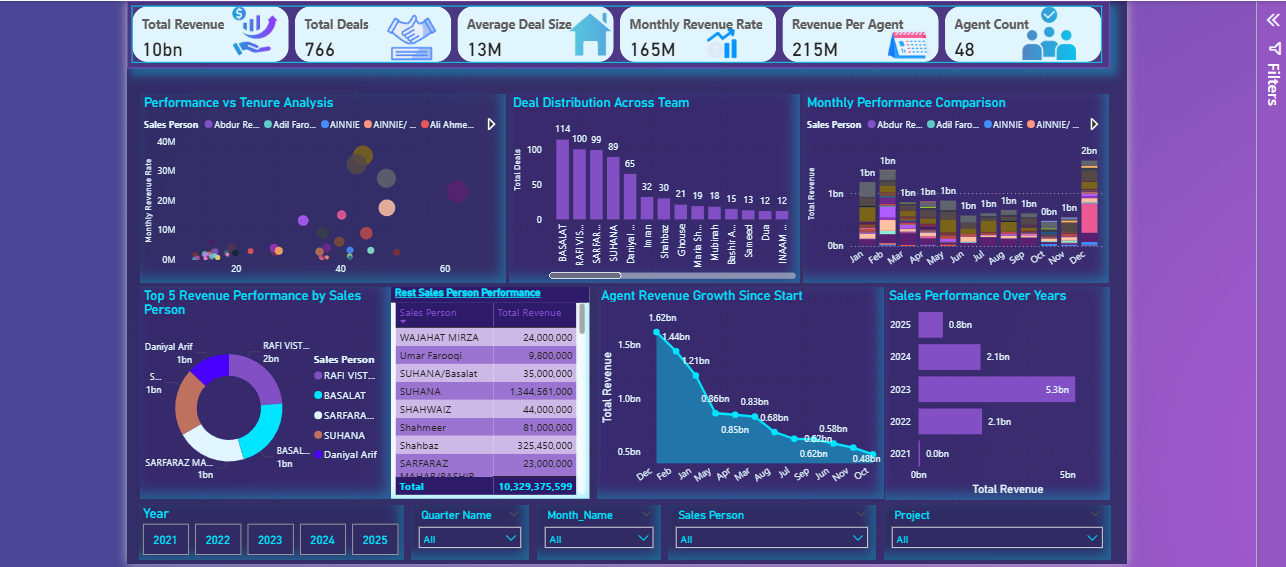

What the dashboard file says about the page in this screenshot:
{"tool":"powerbi","page":{"name":"Team Performance Analysis","canvas":[1280,720],"ordinal":1},"visuals":[{"type":"slicer","fields":{"Values":["Report.Project "]},"box":[968.8,644.9,289.5,70],"z":0},{"type":"slicer","fields":{"Values":["Calendar_Table.Quarter_Name"]},"box":[363.6,644.9,150.9,70],"z":1000},{"type":"slicer","fields":{"Values":["Report.Sales Person"]},"box":[693,644.9,266.2,70],"z":2000},{"type":"cardVisual","fields":{"Data":["Calculation.Total Revenue","Calculation.Total Deals","Calculation.Average Deal Size","Calculation.Monthly Revenue Rate","Calculation.Revenue Per Agent","Calculation.Agent Count"]},"box":[0,0,1258.3,85.7],"z":3000},{"type":"scatterChart","title":"Performance vs Tenure Analysis","fields":{"X":["Calculation.Agent Tenure Months"],"Y":["Calculation.Monthly Revenue Rate"],"Size":["Calculation.Total Deals"],"Series":["Report.Sales Person"]},"box":[16.1,118.7,468.9,241.5],"z":4000},{"type":"clusteredColumnChart","title":"Deal Distribution Across Team","fields":{"Category":["Report.Sales Person"],"Y":["Calculation.Total Deals"]},"box":[489.1,118.7,372.3,241.5],"z":5000},{"type":"columnChart","title":"Monthly Performance Comparison","fields":{"Y":["Calculation.Total Revenue"],"Series":["Report.Sales Person"],"Category":["Calendar_Table.Month_Short_Name"]},"box":[865.4,118.7,392.5,241.5],"z":6000},{"type":"donutChart","title":"Top 5 Revenue Performance by Sales Person","fields":{"Category":["Report.Sales Person"],"Y":["Calculation.Total Revenue"]},"box":[16.7,366.7,321.4,271.4],"z":7000},{"type":"lineChart","title":"Agent Revenue Growth Since Start","fields":{"Category":["Calendar_Table.Month_Short_Name"],"Y":["Calculation.Total Revenue"]},"box":[601.8,366.3,368.3,271.7],"z":8000},{"type":"advancedSlicerVisual","fields":{"Values":["Calendar_Table.Year"]},"box":[15.1,644.9,338.9,70],"z":9000},{"type":"tableEx","title":"Rest Sales Person Performance","fields":{"Values":["Report.Sales Person","Calculation.Total Revenue"]},"box":[338.1,366.7,253.6,271.4],"z":10000},{"type":"slicer","fields":{"Values":["Calendar_Table.Month_Name"]},"box":[524.2,644.9,159.2,70],"z":11000},{"type":"image","box":[125.2,0,77.4,77.4],"z":12000},{"type":"image","box":[323.5,9.8,80.2,73.1],"z":13000},{"type":"image","box":[559.8,9.8,66.1,64.7],"z":14000},{"type":"image","box":[969.1,16.9,64.7,77.4],"z":15000},{"type":"image","box":[1137.9,0,84.4,83],"z":16000},{"type":"image","box":[728.6,28.1,66.1,52],"z":17000},{"type":"barChart","title":"Sales Performance Over Years","fields":{"Category":["Calendar_Table.Date.Variation.Date Hierarchy.Year","Calendar_Table.Date.Variation.Date Hierarchy.Quarter","Calendar_Table.Date.Variation.Date Hierarchy.Month","Calendar_Table.Date.Variation.Date Hierarchy.Day"],"Y":["Calculation.Total Revenue"]},"box":[970.1,366.3,287.8,271.7],"z":18000}]}

Visuals, with their boxes on the page's 1280x720 design canvas (x1, y1, x2, y2). These are canvas units, not pixel positions in the 1286x567 screenshot, which may show the page scaled, cropped or inside an application window:
slicer - Report.Project : pyautogui.locateOnScreen(969, 645, 1258, 715)
slicer - Calendar_Table.Quarter_Name: pyautogui.locateOnScreen(364, 645, 514, 715)
slicer - Report.Sales Person: pyautogui.locateOnScreen(693, 645, 959, 715)
cardVisual - Calculation.Total Revenue x Calculation.Total Deals: pyautogui.locateOnScreen(0, 0, 1258, 86)
"Performance vs Tenure Analysis" scatterChart: pyautogui.locateOnScreen(16, 119, 485, 360)
"Deal Distribution Across Team" clusteredColumnChart: pyautogui.locateOnScreen(489, 119, 861, 360)
"Monthly Performance Comparison" columnChart: pyautogui.locateOnScreen(865, 119, 1258, 360)
"Top 5 Revenue Performance by Sales Person" donutChart: pyautogui.locateOnScreen(17, 367, 338, 638)
"Agent Revenue Growth Since Start" lineChart: pyautogui.locateOnScreen(602, 366, 970, 638)
advancedSlicerVisual - Calendar_Table.Year: pyautogui.locateOnScreen(15, 645, 354, 715)
"Rest Sales Person Performance" tableEx: pyautogui.locateOnScreen(338, 367, 592, 638)
slicer - Calendar_Table.Month_Name: pyautogui.locateOnScreen(524, 645, 683, 715)
image: pyautogui.locateOnScreen(125, 0, 203, 77)
image: pyautogui.locateOnScreen(324, 10, 404, 83)
image: pyautogui.locateOnScreen(560, 10, 626, 74)
image: pyautogui.locateOnScreen(969, 17, 1034, 94)
image: pyautogui.locateOnScreen(1138, 0, 1222, 83)
image: pyautogui.locateOnScreen(729, 28, 795, 80)
"Sales Performance Over Years" barChart: pyautogui.locateOnScreen(970, 366, 1258, 638)
